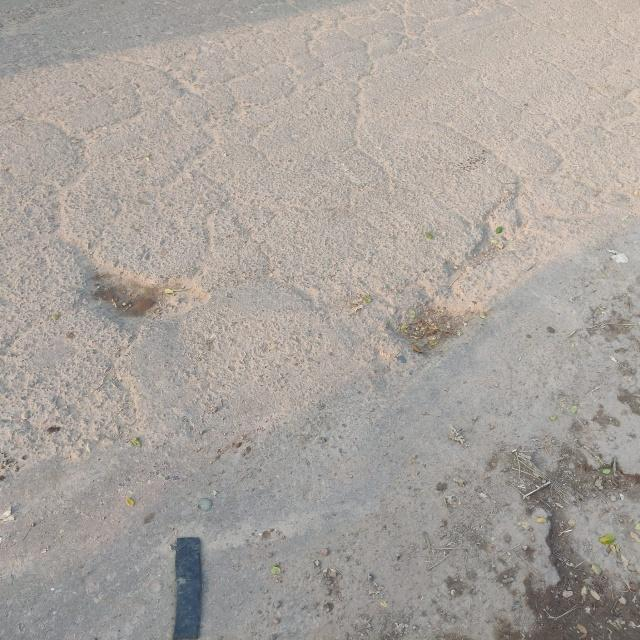Surface Erosion: (0, 66, 640, 442)
